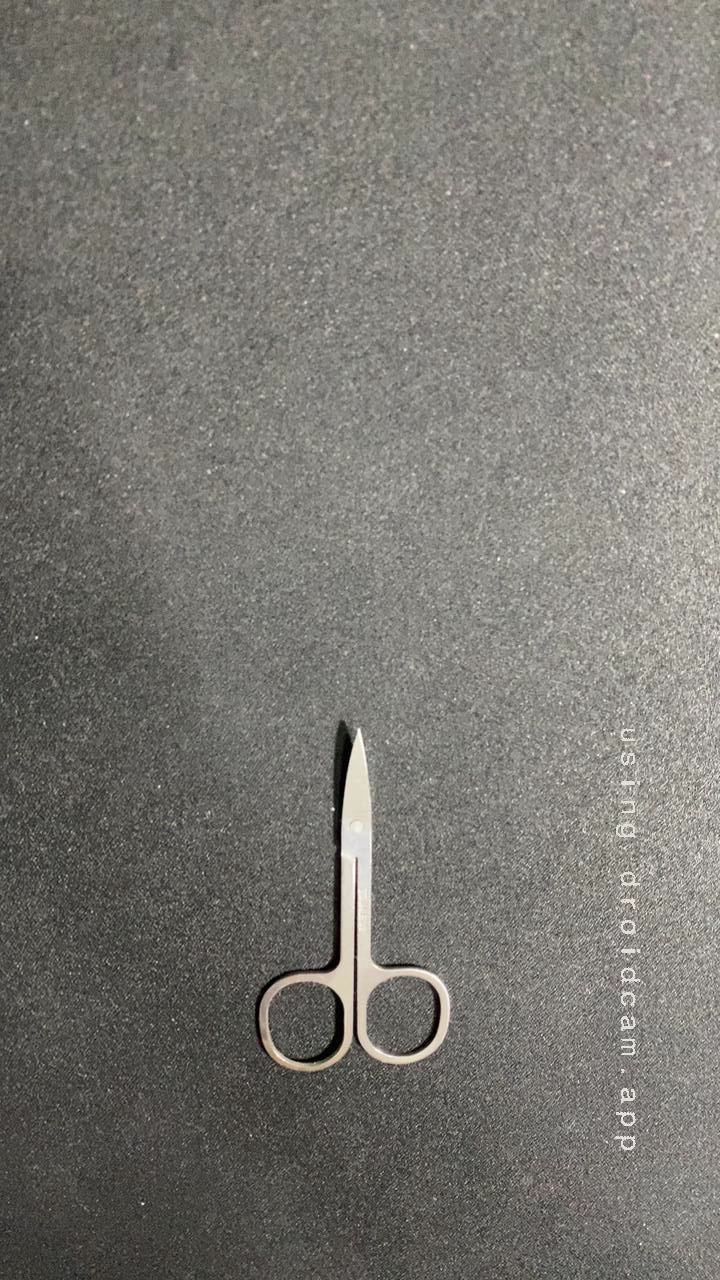scissor: (220, 713, 466, 1078)
